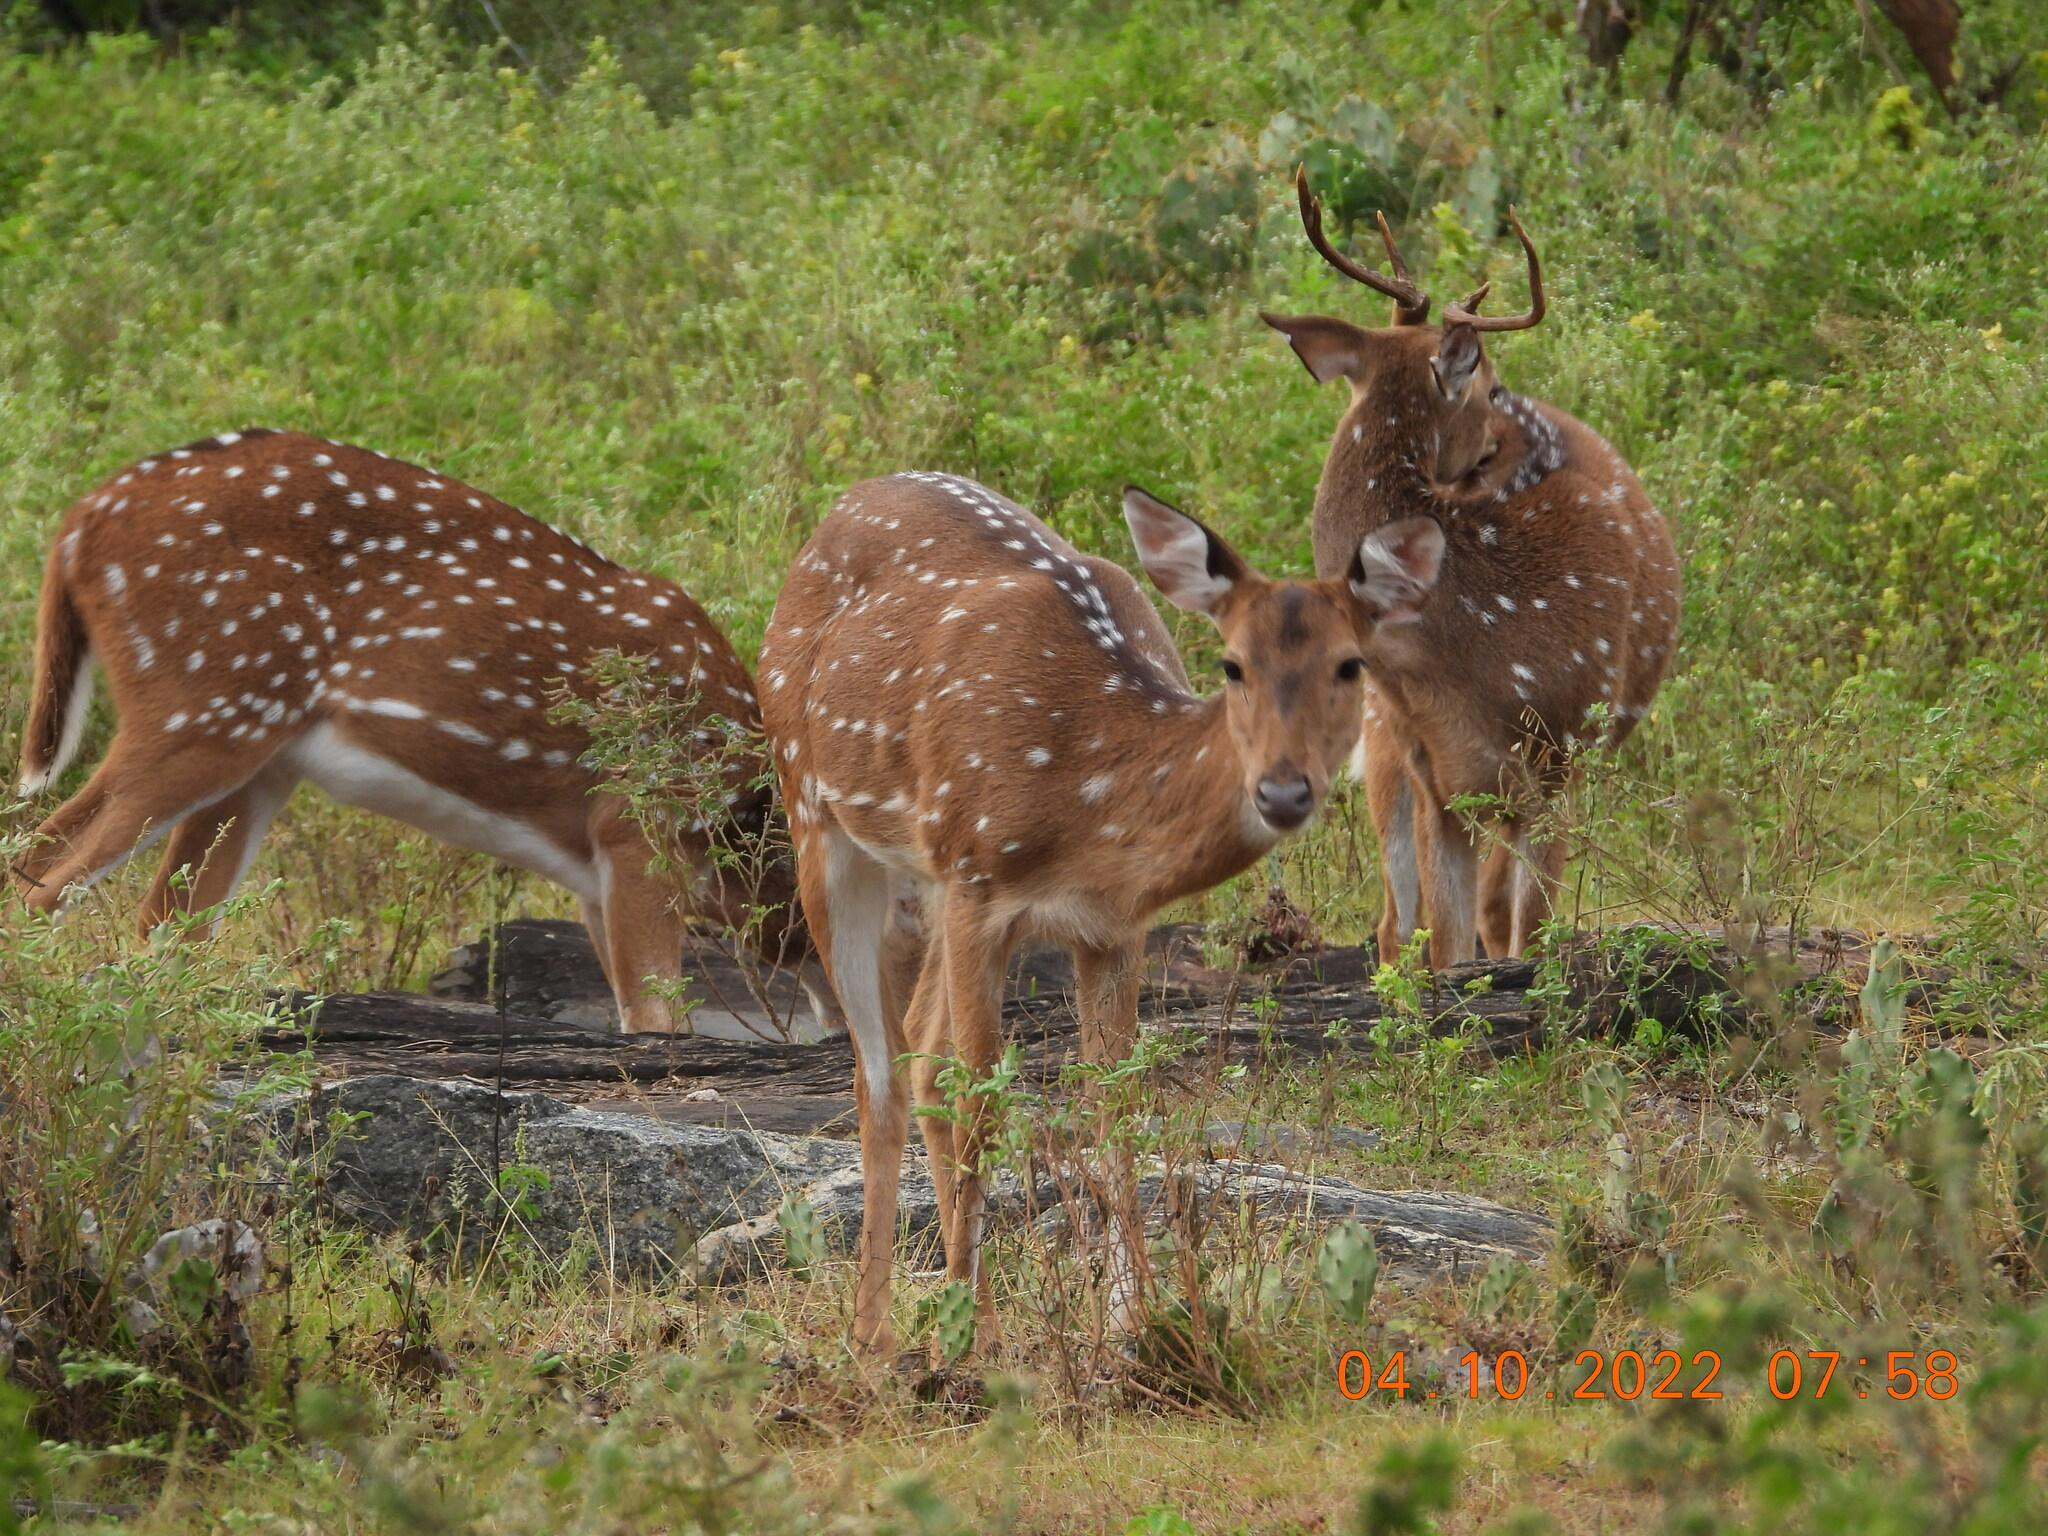Deer: (756, 473, 1443, 1347), (13, 428, 843, 1033), (1259, 166, 1680, 968)
